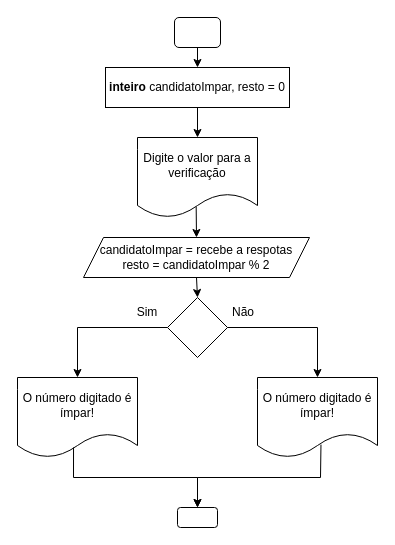
The diagram is 395 pixels wide and 545 high, and some of its shapes have lost their labels. The shapes that lost their labels are listed below. From the top down, each one's centre as x and y in pixels, then its label:
At point (197, 32): "INÍCIO".
At point (197, 327): "resto != 0".
At point (197, 517): "FIM".
